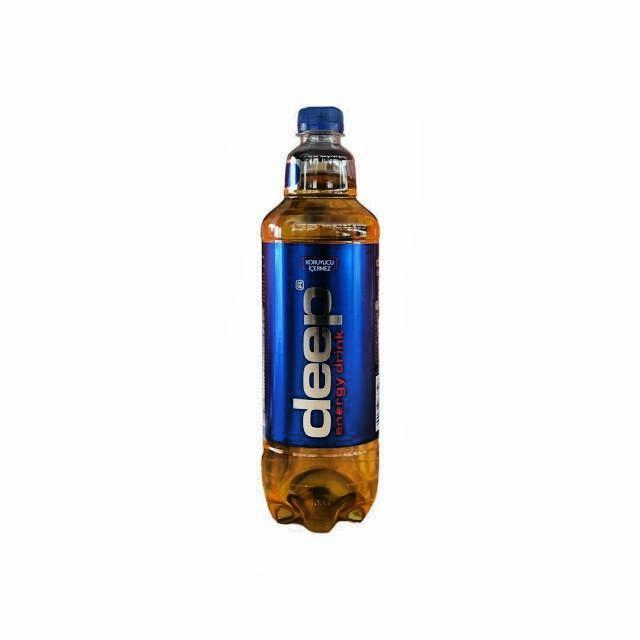plastic: (260, 106, 381, 536)
